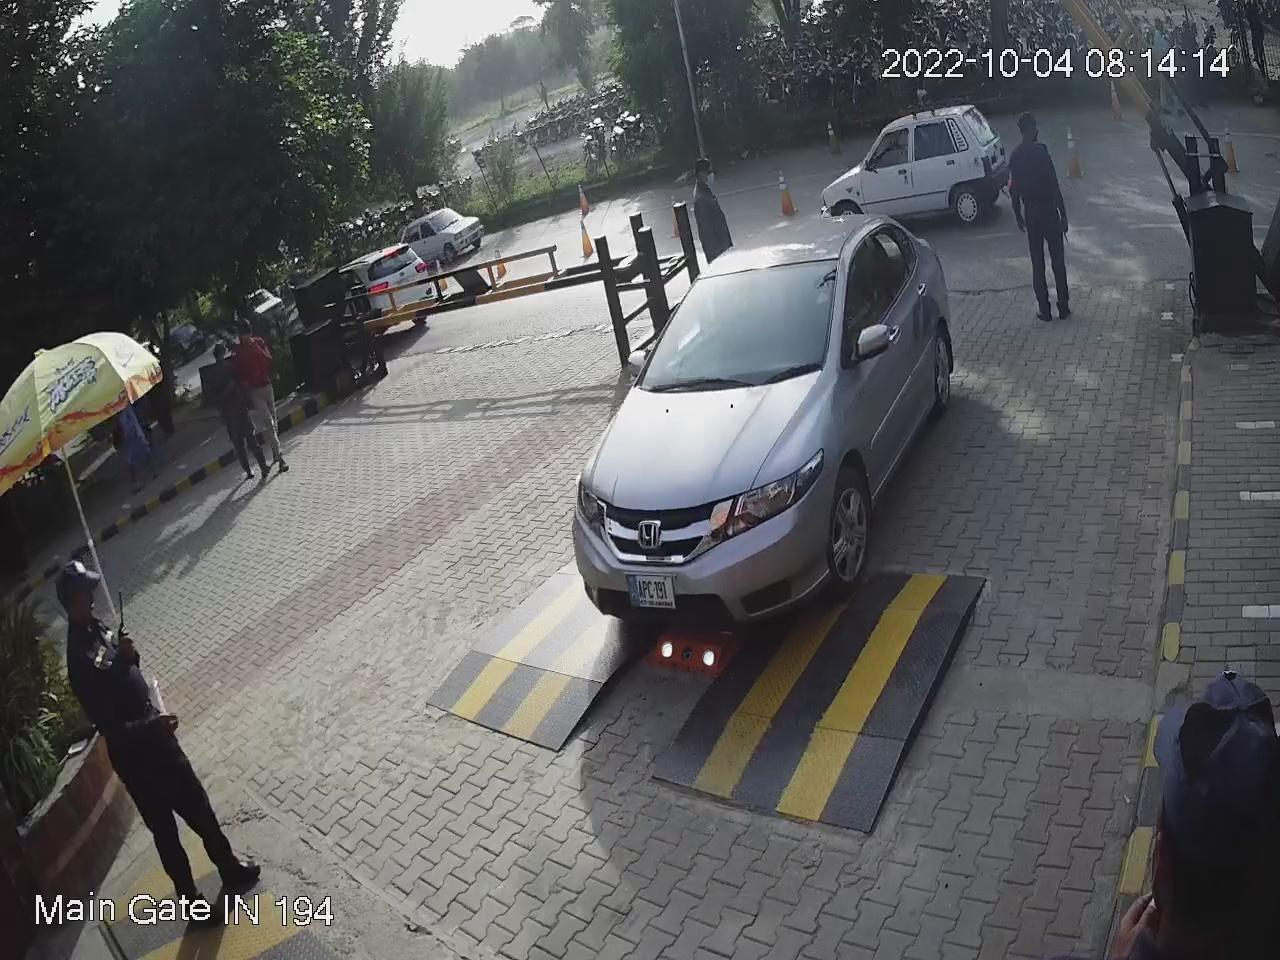windshield: (638, 255, 843, 400)
